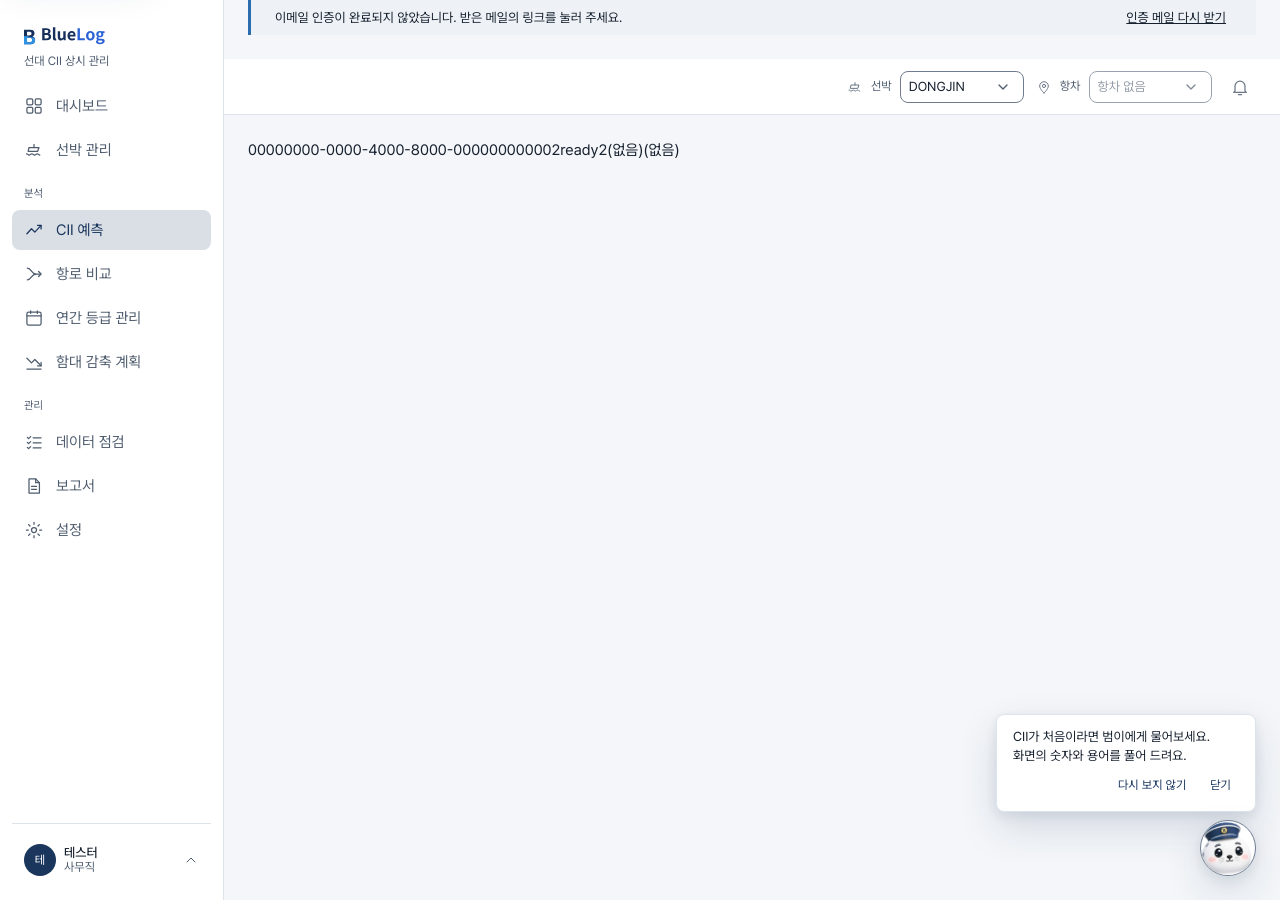
Scenario: 상단바가 §7.2 배치를 벗어나지 않는다 (#1422) › 테마·언어는 계정 메뉴를 열어야 나온다 — 사라진 것이 아니다
This screenshot has width=1280, height=900.
Expected: the text with test id "vessels-state" reads "ready", [560,141,598,159]
Expected: the element "화면 테마" is not shown
Click the button with test id "account-trigger" at (112, 860), box [12,836,211,884]
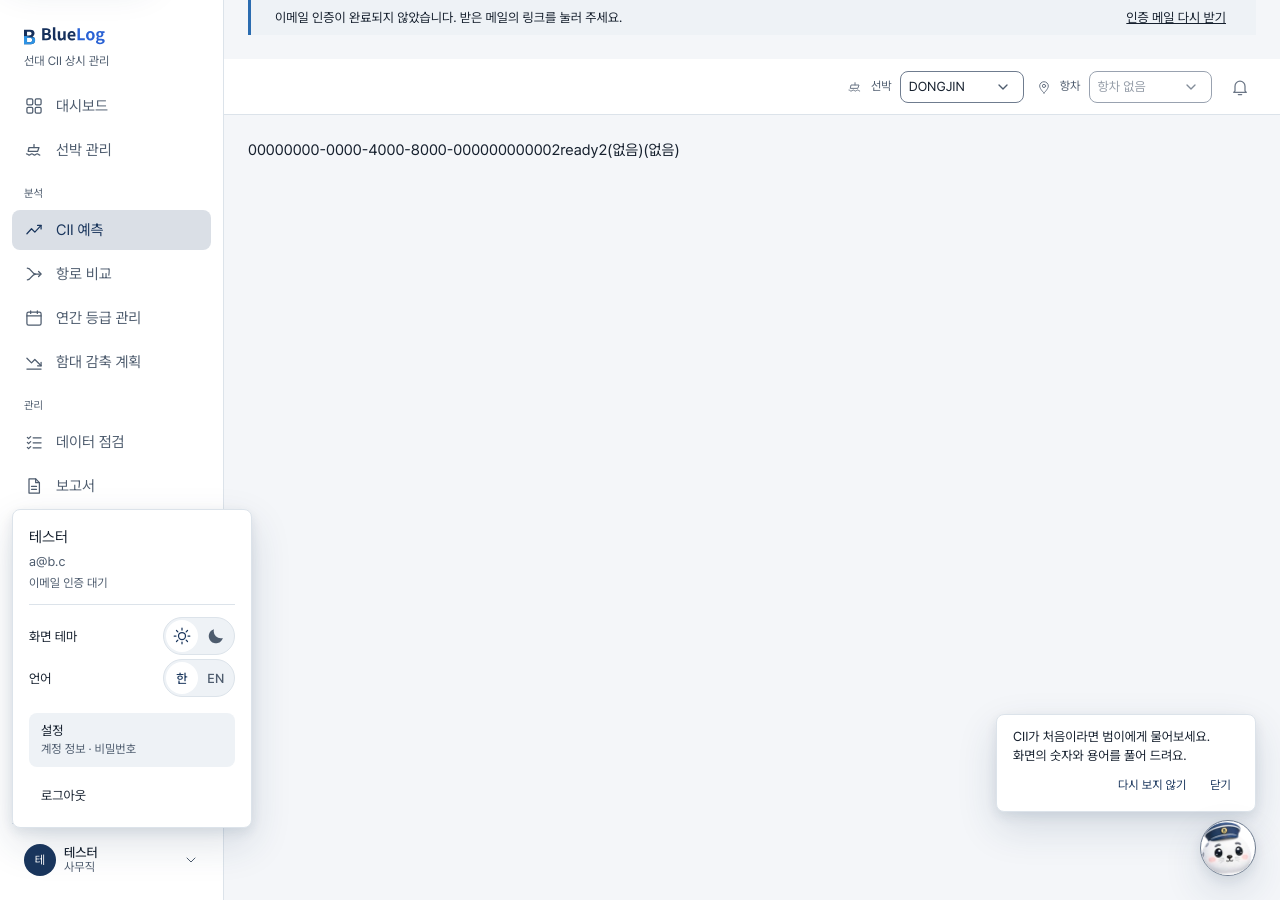
Now the element named "화면 테마" next to "화면 테마" is shown, box [163,617,235,655]
Now the element named "언어" is shown, box [163,659,235,697]
